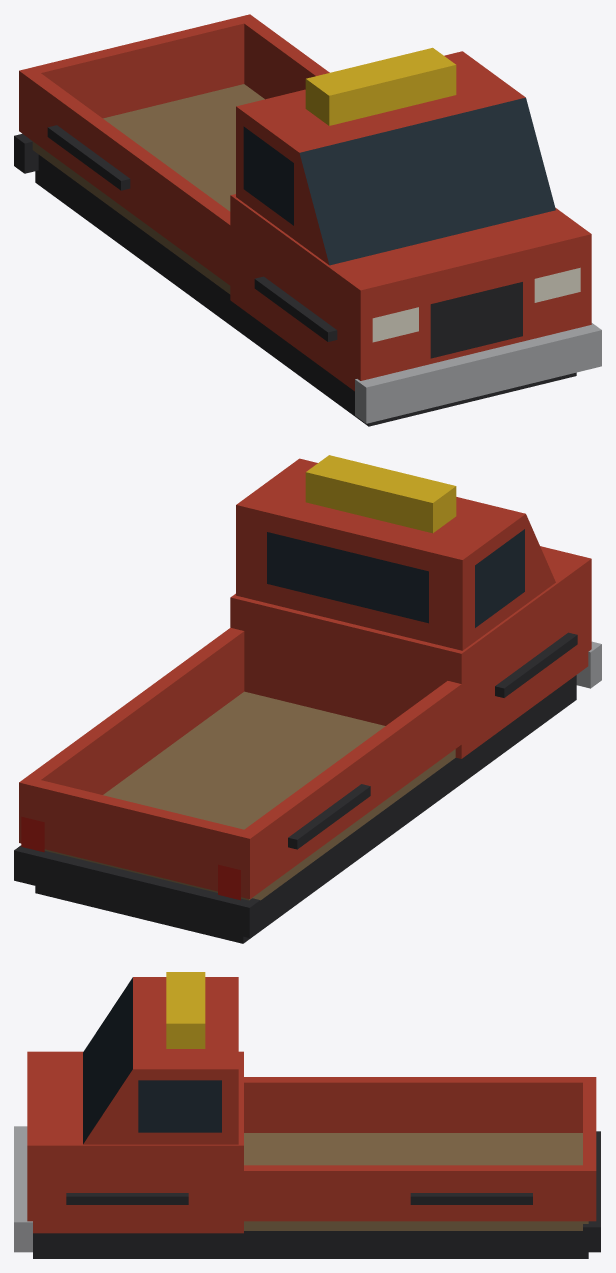
File: truck.glb
3 views of the same model, one above another, from view 1: azimuth 30°, elevation 25°; view 2: azimuth 150°, elevation 25°; view 3: azimuth 270°, elevation 25° (orthographic). The views are drawn at different scales.
Parts seen in each view (by area): view 1: Body; view 2: Body; view 3: Body.
Part boxes in pixels (x1=…): Body: x1=14, y1=14, x2=601, y2=426; Body: x1=14, y1=455, x2=601, y2=943; Body: x1=14, y1=972, x2=600, y2=1258.
Bounding box in the file's own units: 2.16 × 2.17 × 5.29.
